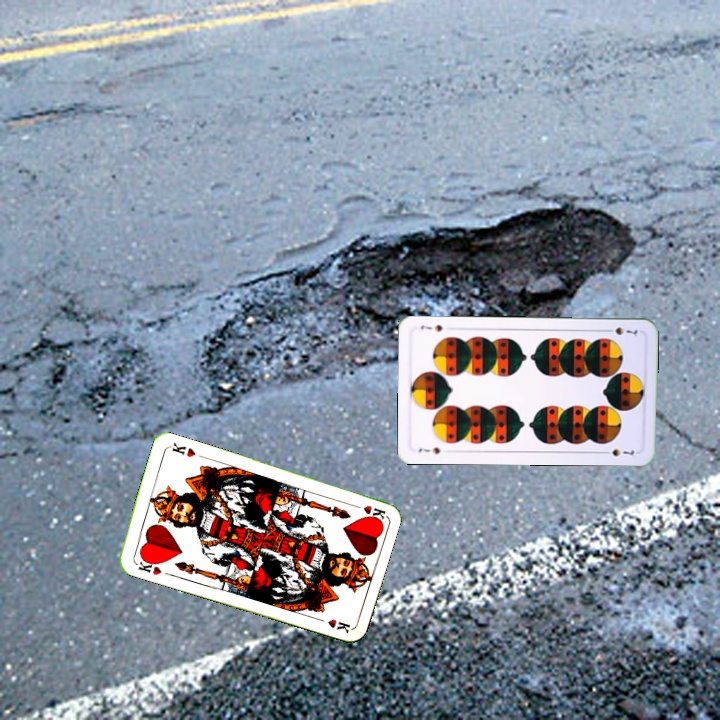HK: (347, 499, 387, 522), (134, 553, 164, 578)
S7: (601, 323, 640, 339), (415, 443, 443, 456)
